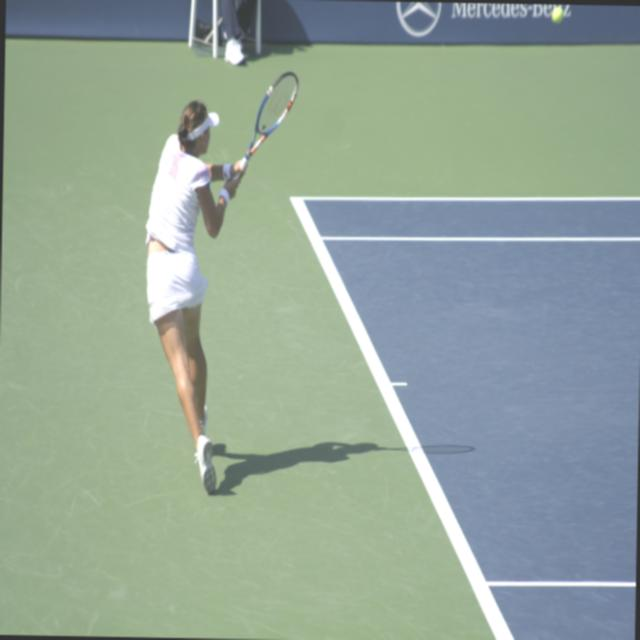Tennis ball: (550, 5, 563, 24)
